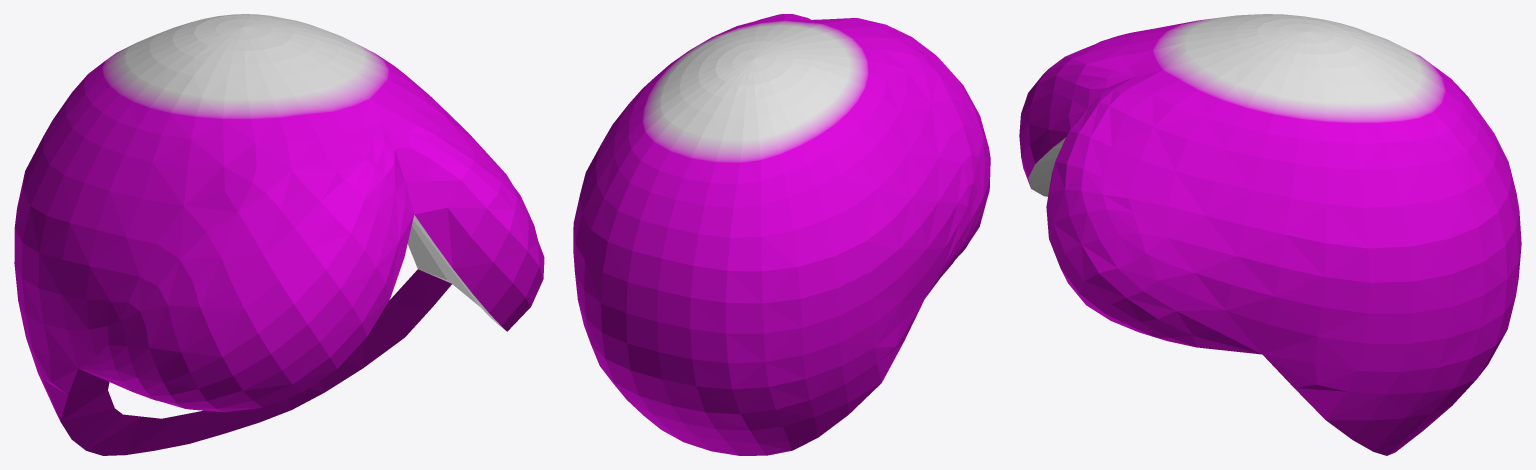
The model's file is hair_49.glb.
The picture shows the model from 3 angles, left to right: view 1: azimuth 30°, elevation 25°; view 2: azimuth 150°, elevation 25°; view 3: azimuth 270°, elevation 25°; orthographic projection. The views are drawn at different scales.
Parts seen in each view (by area): view 1: shape; view 2: shape; view 3: shape.
Boxes of the visible parts, bbox=[...] form: shape: bbox=[14, 14, 544, 455]; shape: bbox=[573, 14, 990, 455]; shape: bbox=[1019, 14, 1521, 455].
Bounding box in the file's own units: 55.25 × 60.38 × 68.73.
